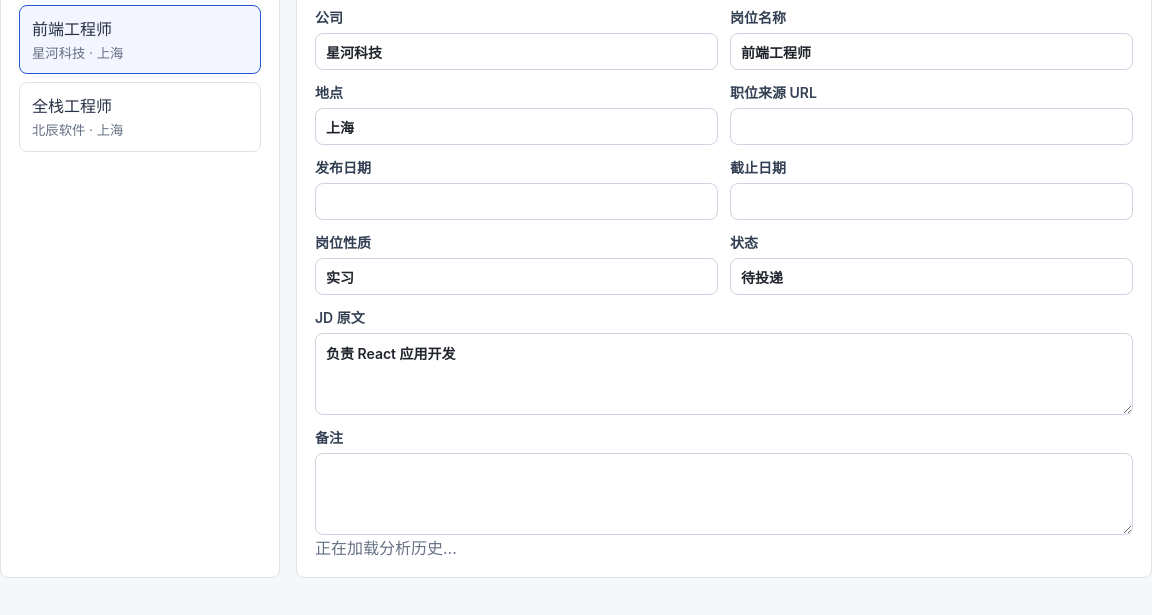
Test case: JobsPage › does not let an old A history request overwrite reanalysis after returning from B
The width and height of the screenshot is (1152, 615).
Expected: the field showing "前端工程师" is shown, [730, 33, 1133, 70]
Click the button "全栈工程师 北辰软件 · 上海" at {"x": 140, "y": 117}, box [19, 82, 261, 152]
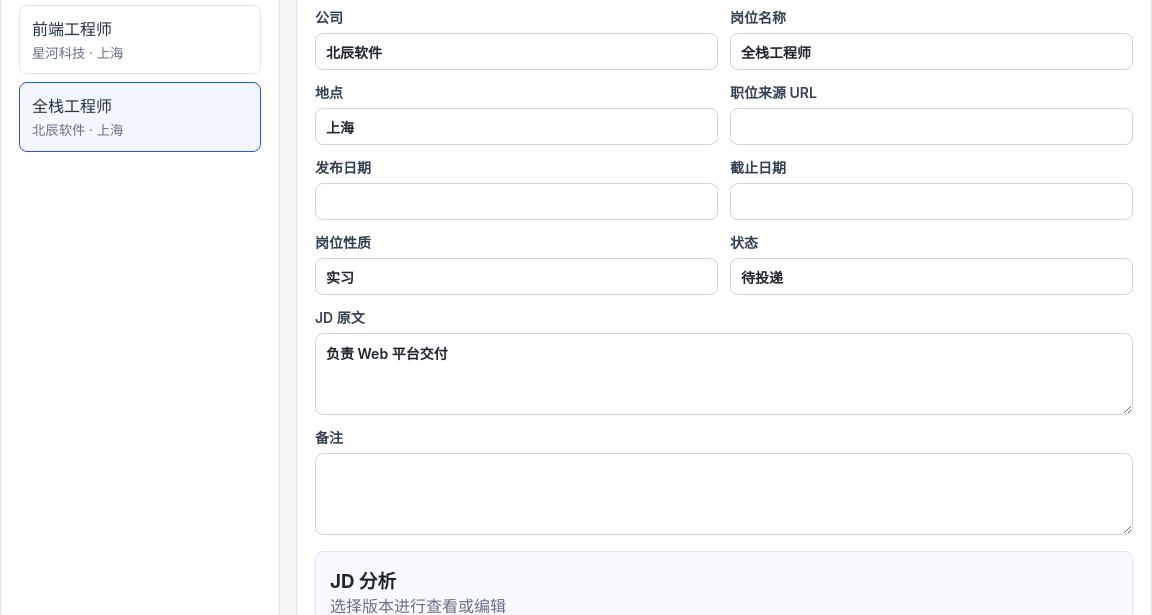
Click the button "前端工程师 星河科技 · 上海" at {"x": 140, "y": 40}, box [19, 5, 261, 74]
(page scrolled)
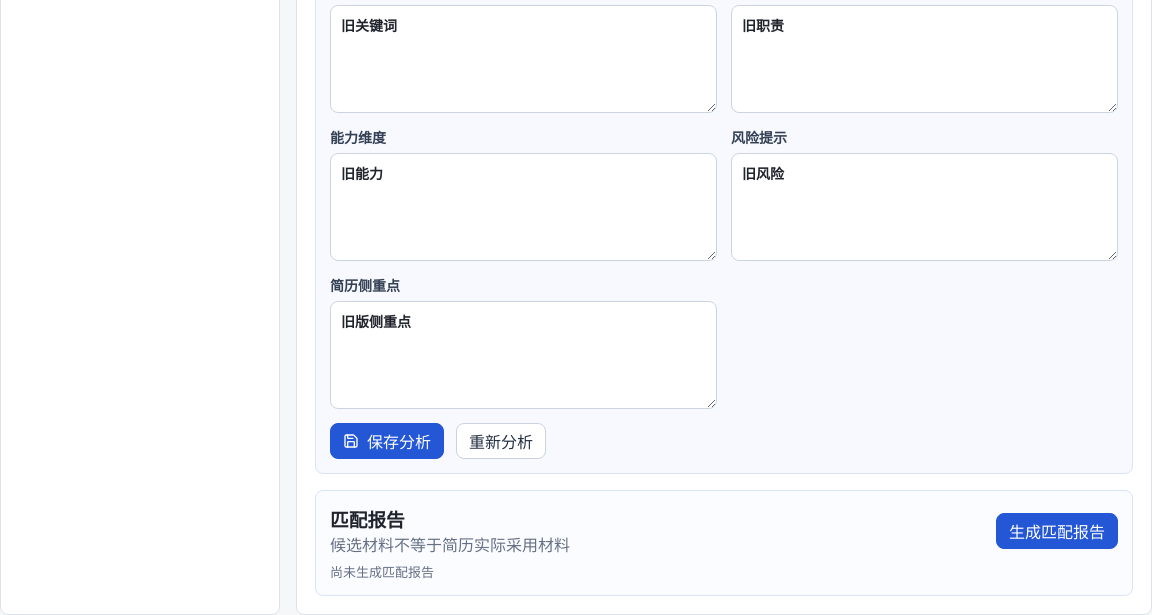
Click the button "重新分析" at {"x": 501, "y": 441}, box [456, 423, 546, 459]
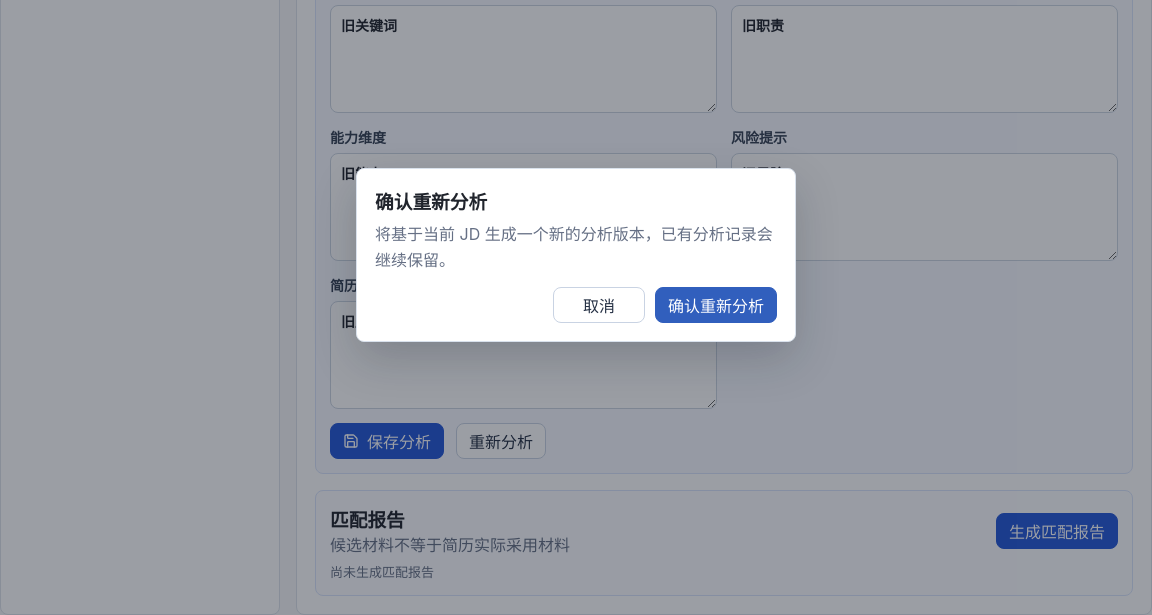
Click the button "确认重新分析" at {"x": 716, "y": 305}, box [655, 287, 777, 323]
(page scrolled)
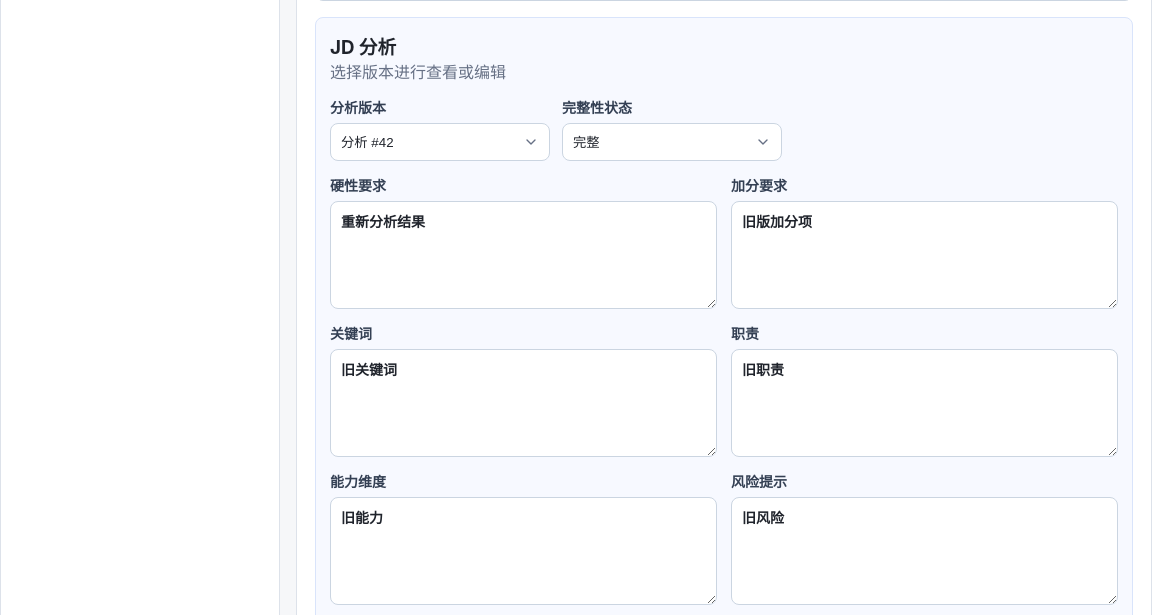
Expected: the text box showing "重新分析结果" is shown, [330, 201, 717, 309]
